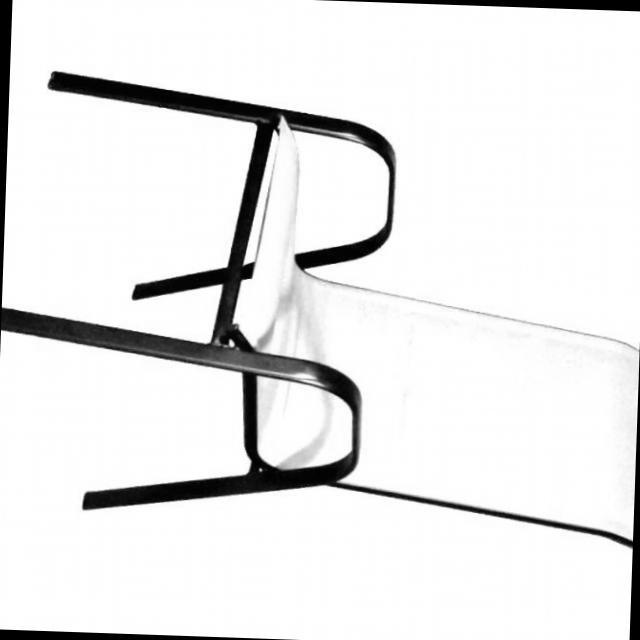chair: (0, 63, 640, 556)
